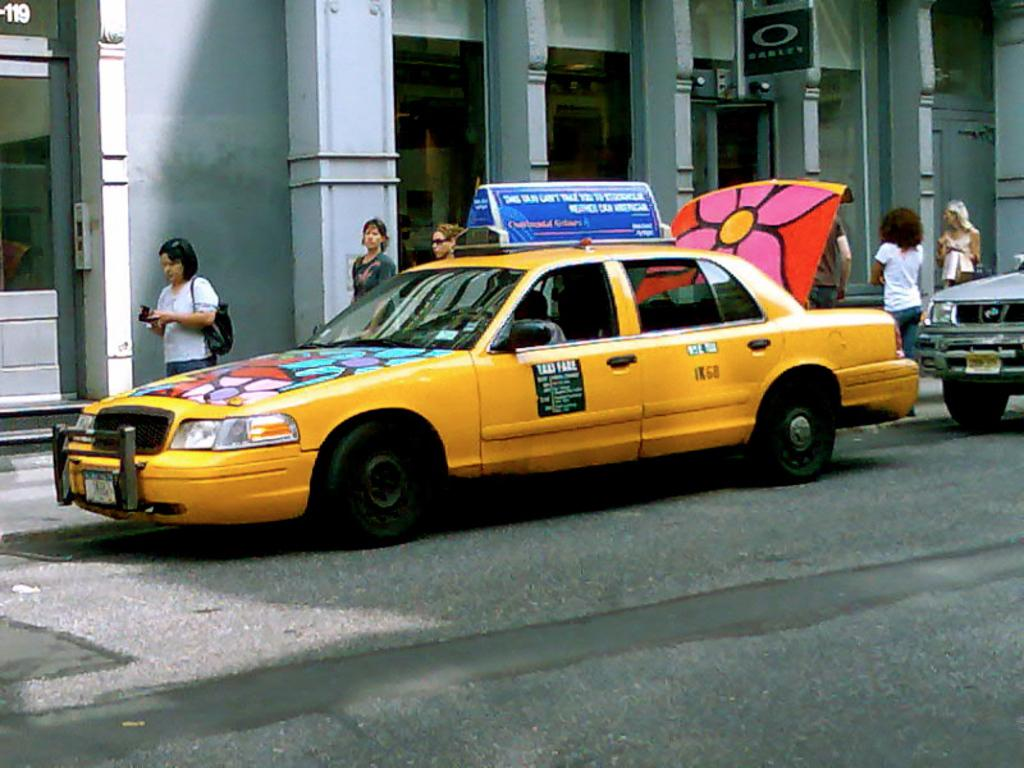taxi: (53, 180, 921, 549)
